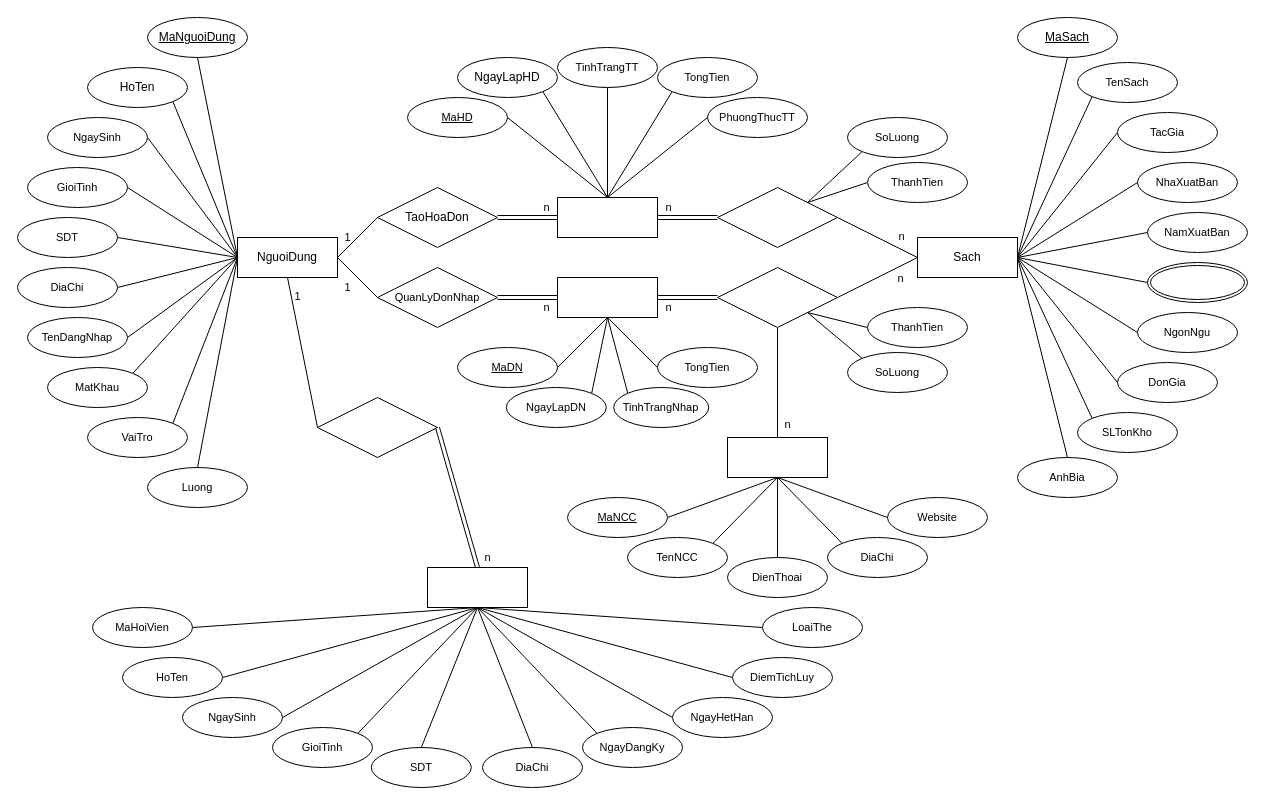
Some shapes in this 1265 by 805 pixel diagram are drawn without their labels. Each missing label, with the centre of its shape:
"ChiTietDonNhap" goes at [777,297].
"ChiTietHoaDon" goes at [777,217].
"DangKyHoiVien" goes at [377,427].
"DonNhap" goes at [607,297].
"HoaDon" goes at [607,217].
"HoiVien" goes at [477,587].
"NhaCungCap" goes at [777,457].
"TheLoai" goes at [1197,282].
